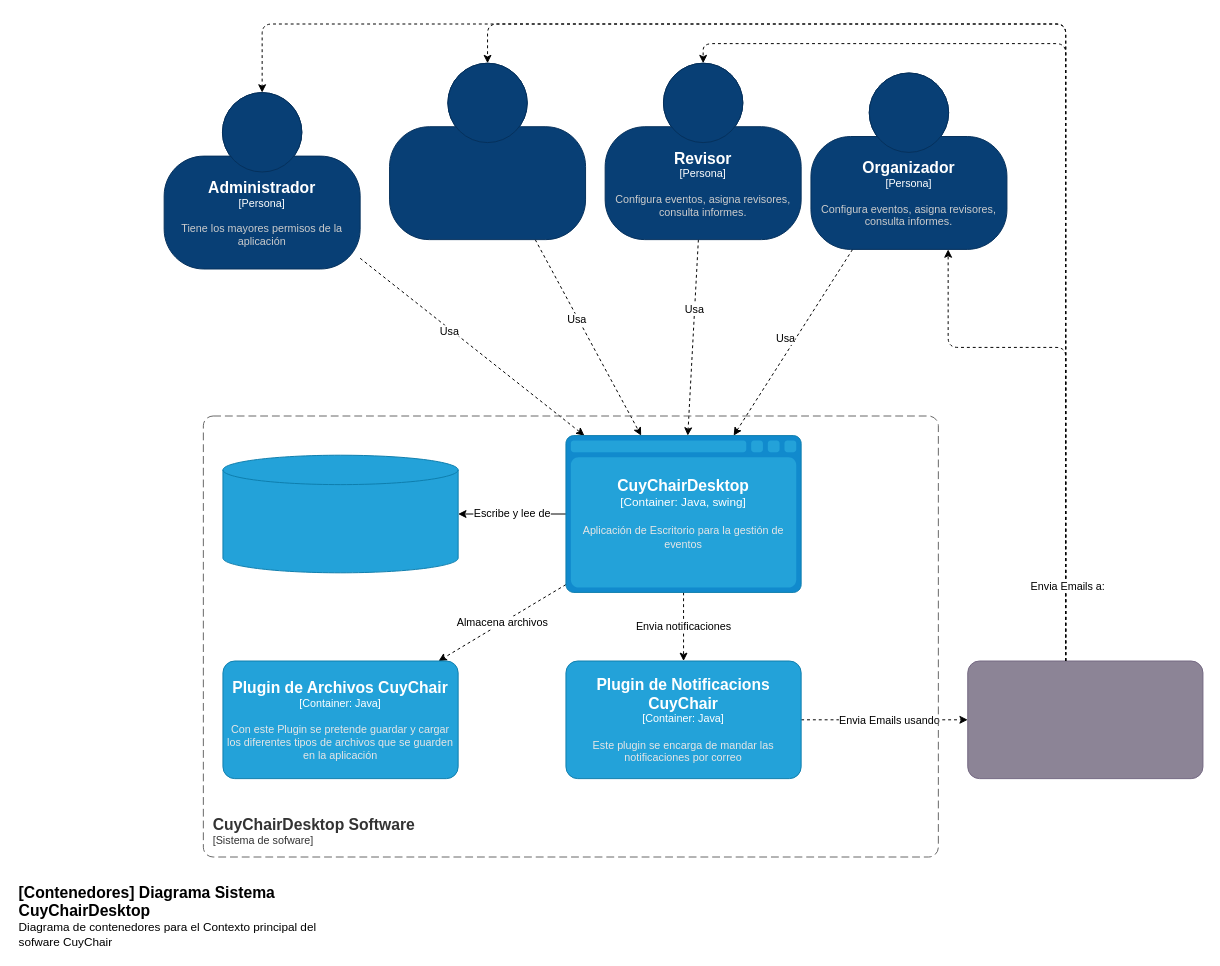
The diagram is 1220 pixels wide and 966 high, and some of its shapes have lost their labels. The centre of each missing label's shape, as x and y in pixels:
"Autor [Persona] Se registra, sube trabajos, recibe notificaciones" goes at pixel 487 151.
"Base de Datos [Container: SQLite] Base de Datos SQL Local" goes at pixel 340 513.
"Email Service [Sistema de Software] Servicio de email de google cloud" goes at pixel 1085 719.
